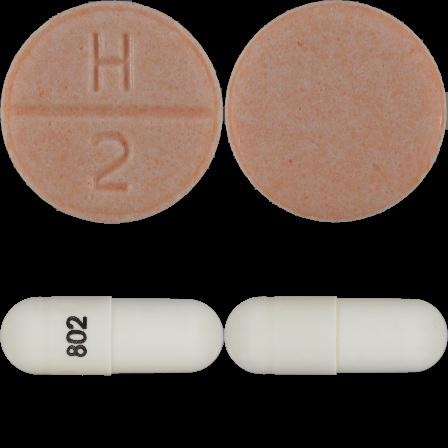61786-269: (0, 0, 224, 224)
